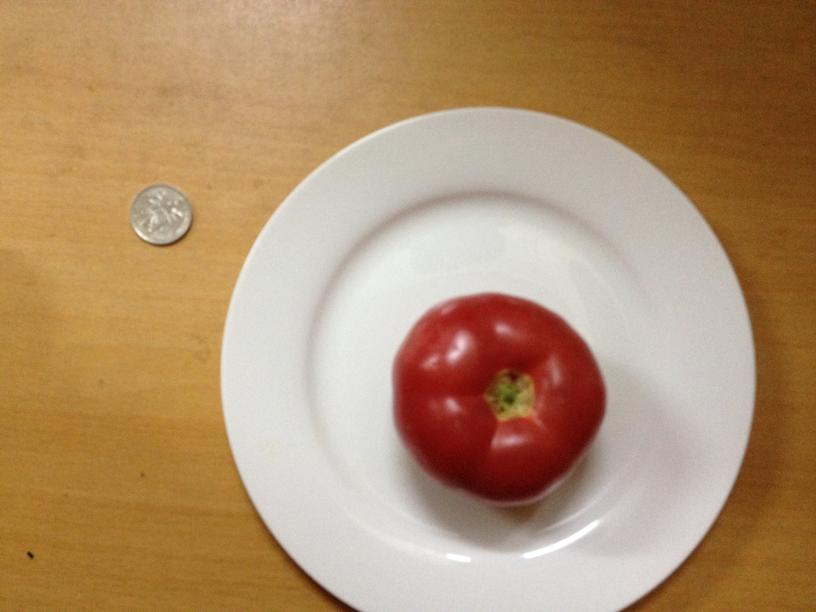coin: (126, 185, 194, 247)
tomato: (385, 295, 608, 504)
